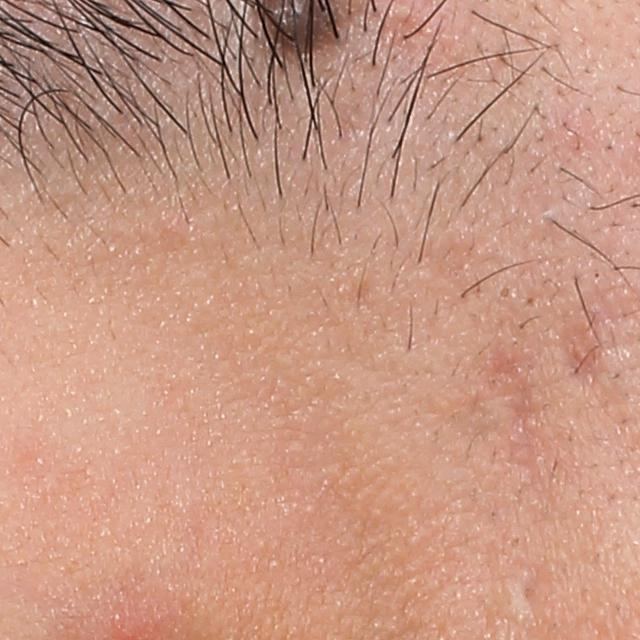atrophic_scar: (486, 347, 535, 432)
comedo: (496, 283, 511, 303)
